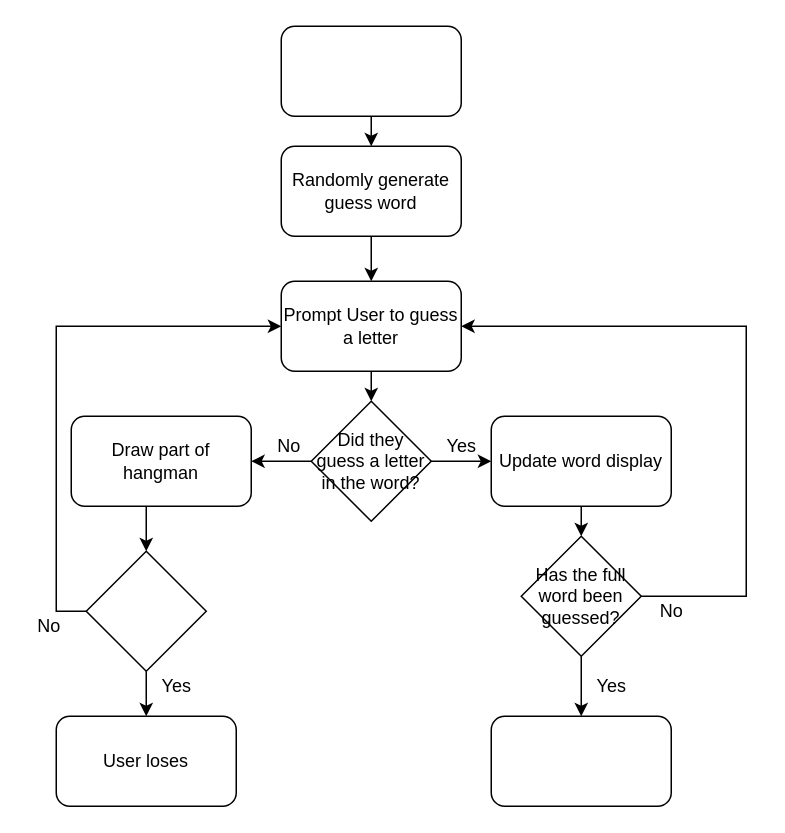
This 785x833 diagram has some shape labels left out. The shapes that lost their labels are listed below. From the top down, each one's centre as x and y in pixels, then its label:
At (370,70): "Start Game".
At (145,610): "Has the whole hangman been drawn?".
At (580,760): "User Wins".
